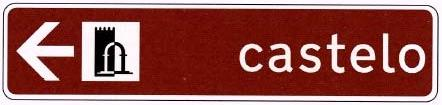Indicacao de ambito urbano: (1, 0, 442, 105)
